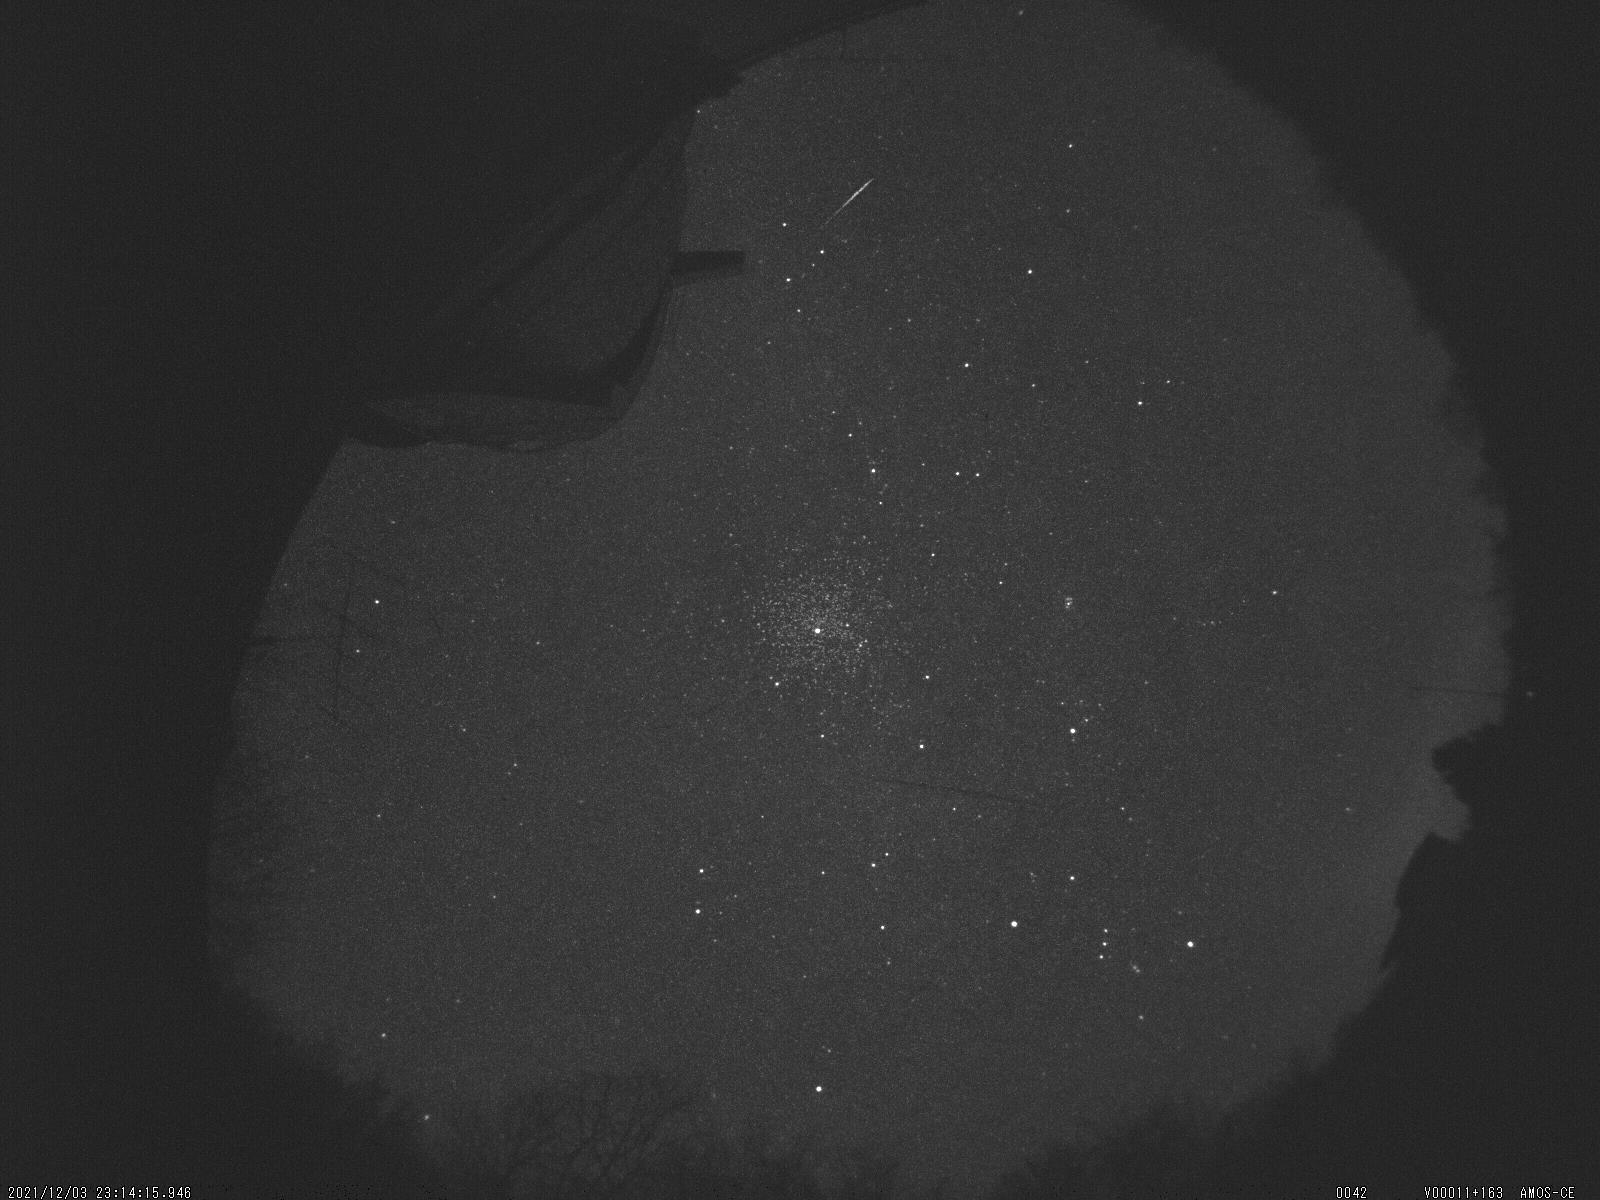Meteor: (826, 169, 885, 226)
